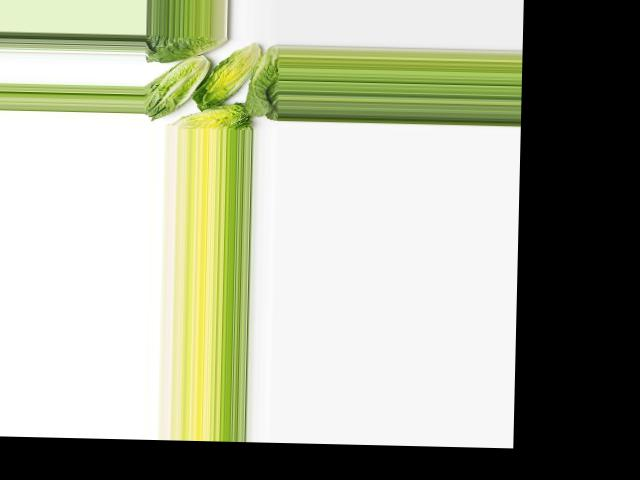lettuce: (242, 46, 280, 121)
